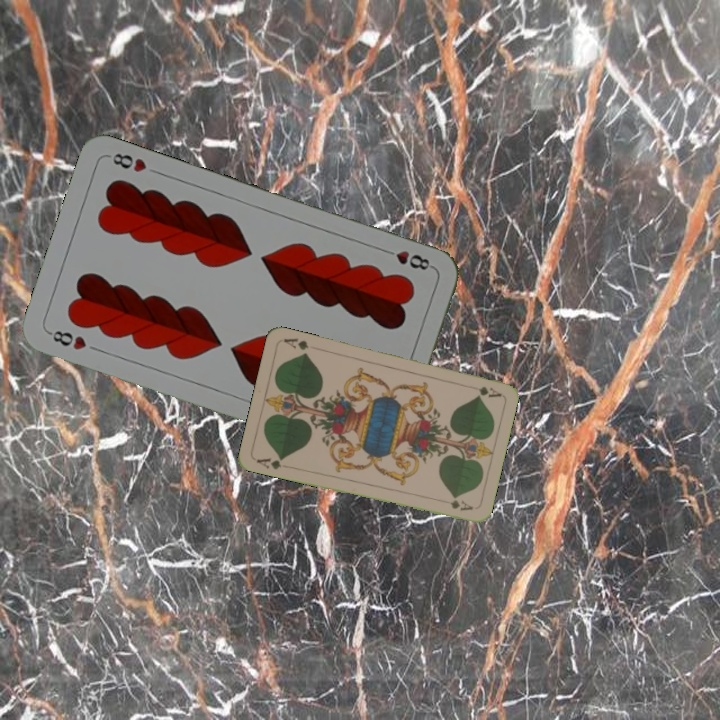GA: (463, 381, 503, 400), (252, 453, 286, 472)
H8: (379, 245, 436, 273), (44, 326, 89, 353)
